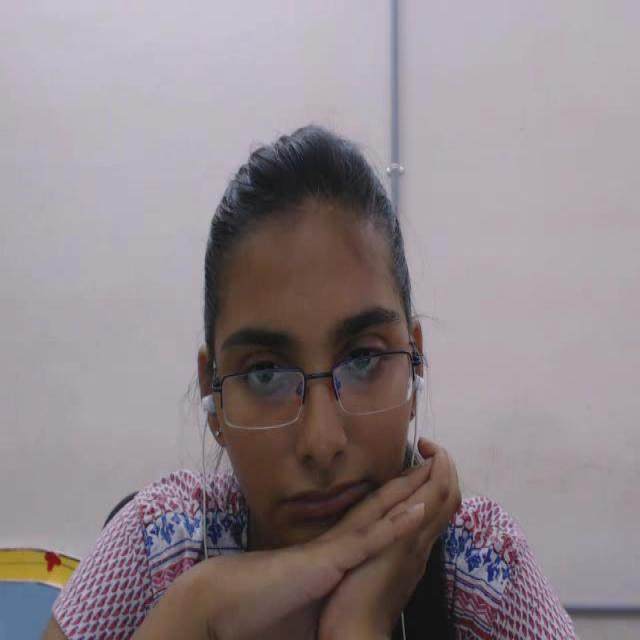Bored: (152, 97, 465, 598)
